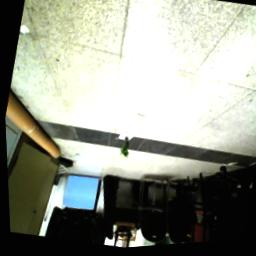herb: (117, 139, 132, 163)
